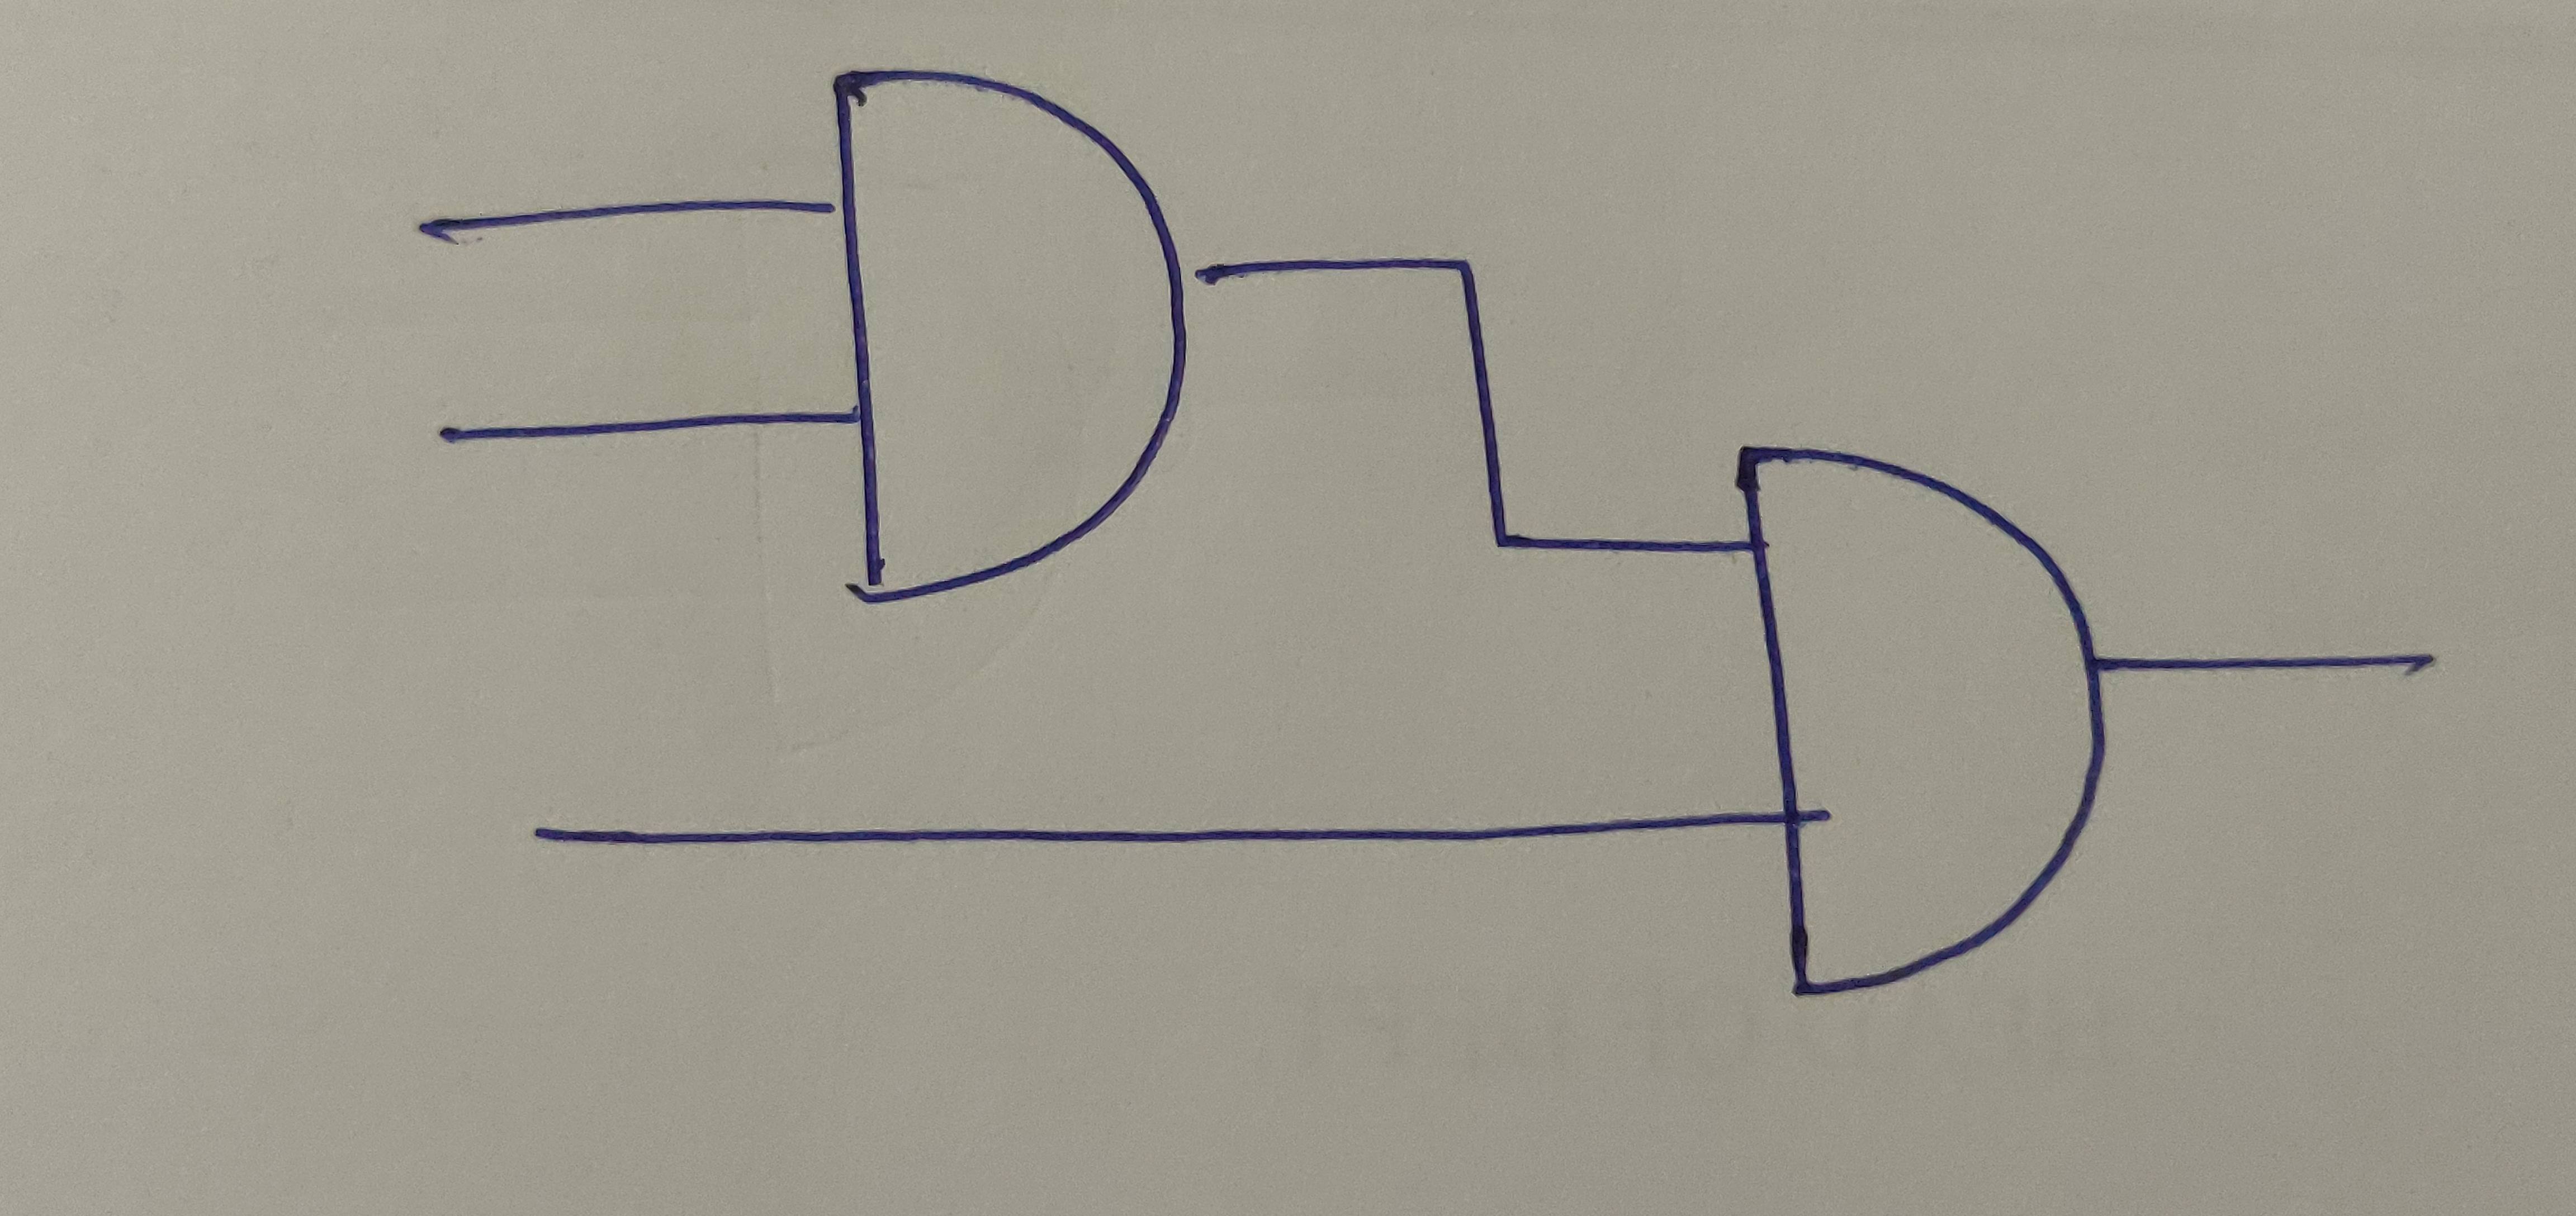and: (1727, 442, 2106, 1001), (820, 62, 1196, 603)
